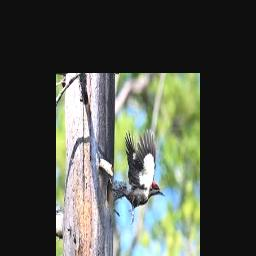Woodpecker: (111, 129, 166, 224)
